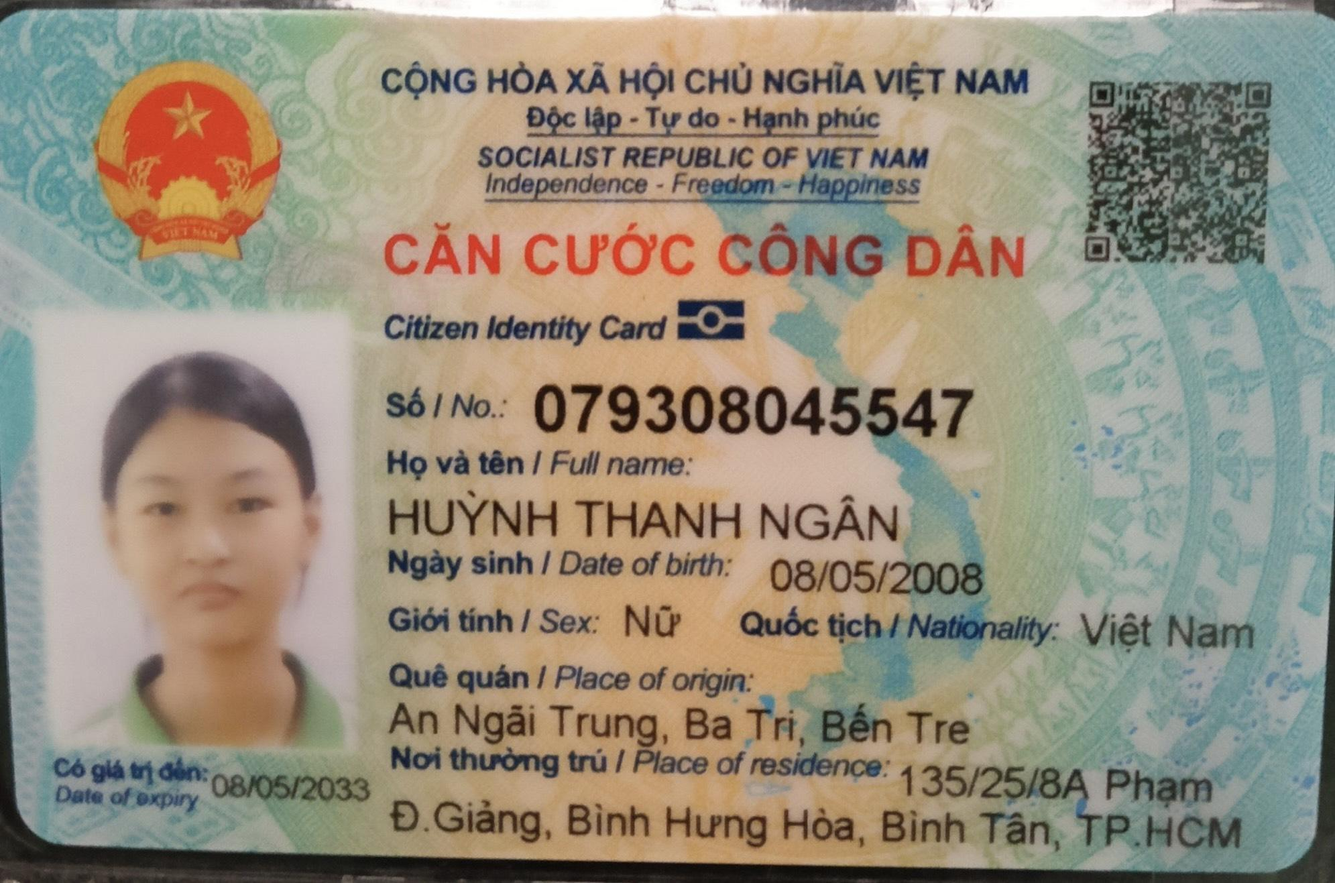ID: (520, 367, 982, 448)
birth: (761, 545, 989, 604)
name: (381, 481, 911, 550)
place: (372, 691, 977, 750)
residence: (382, 793, 1244, 867), (895, 748, 1228, 813)
